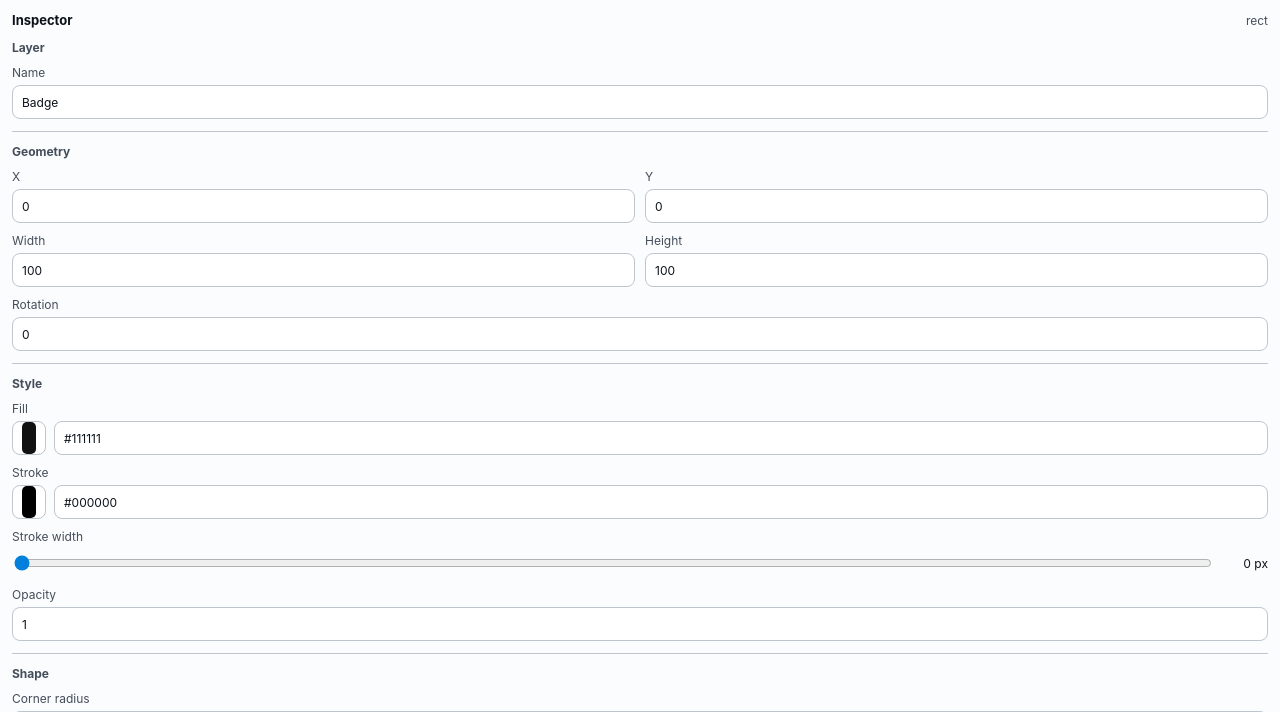
Test: editor panels › changes stroke width with a slider
Set the slider labelled "Stroke width" to "12" at [377, 563], box [14,551,1212,575]
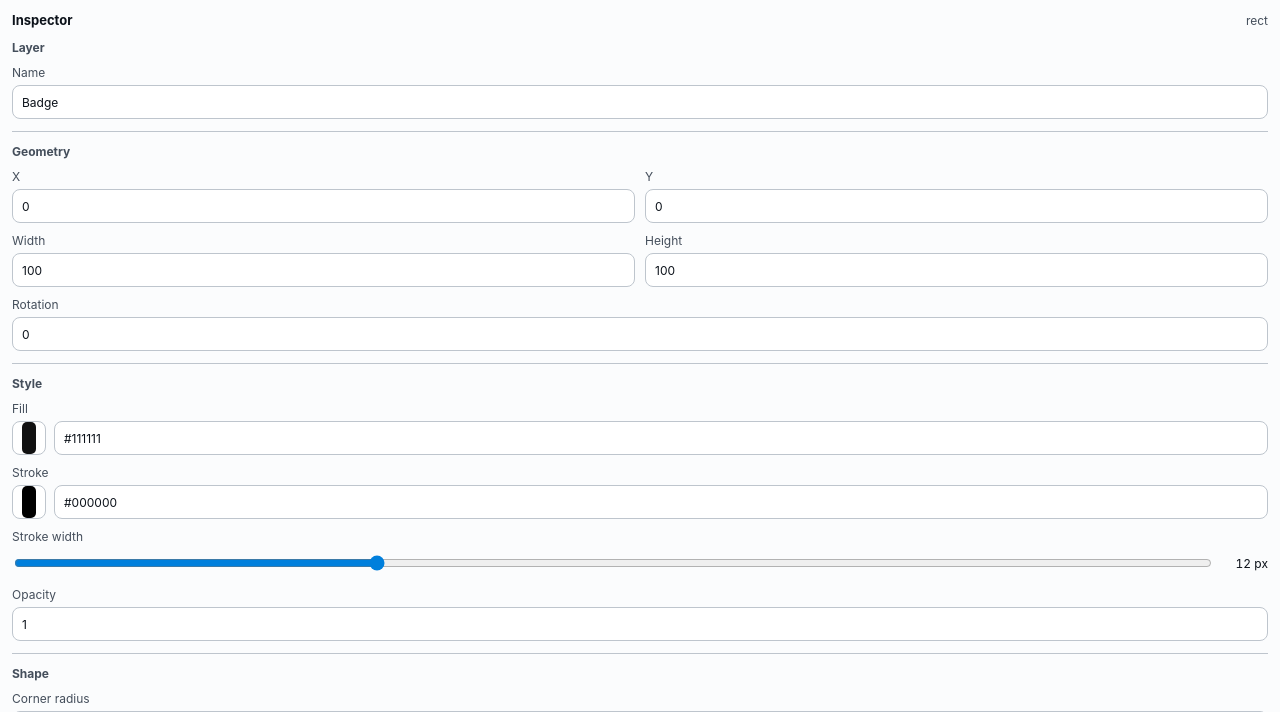
Expected: the text "12 px" is shown, [1236,556,1268,570]
